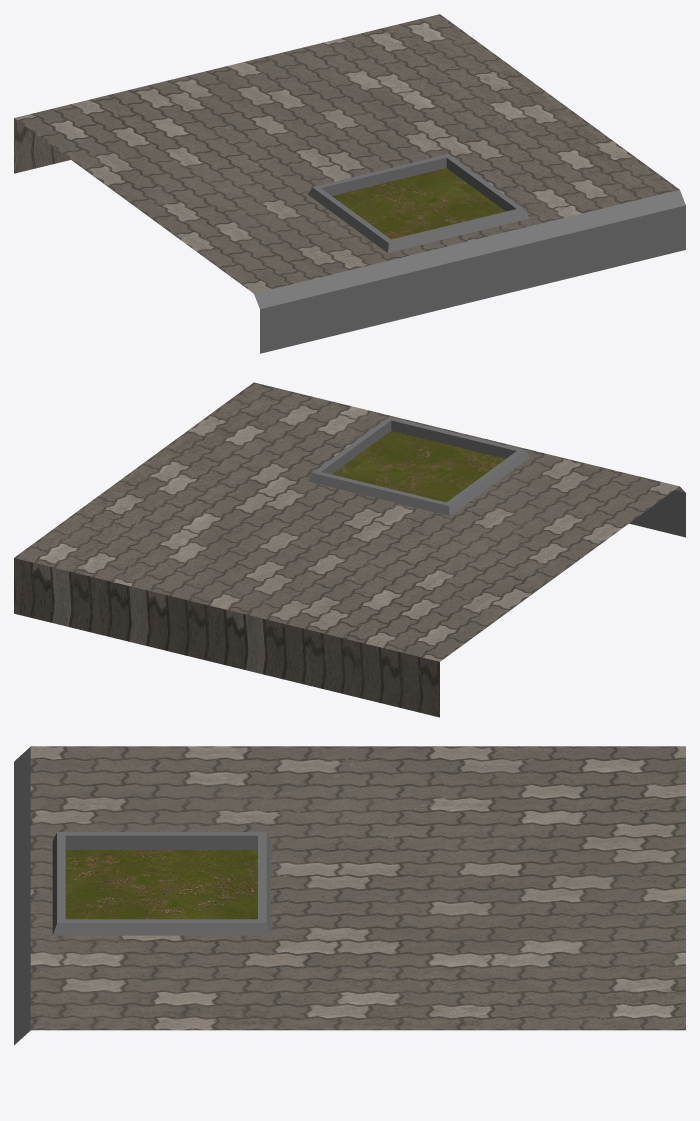
Rendered from Tree_sidewalk.fbx.
The picture shows the model from 3 angles, top to bottom: view 1: azimuth 30°, elevation 25°; view 2: azimuth 150°, elevation 25°; view 3: azimuth 270°, elevation 25°; orthographic projection. The views are drawn at different scales.
Visible parts, largest first — view 1: Acera árbol; view 2: Acera árbol; view 3: Acera árbol.
Boxes of the visible parts, x1,y1,x2,y2 form: Acera árbol: (14,14,685,353); Acera árbol: (14,382,685,717); Acera árbol: (14,746,685,1045).
Bounding box in the file's own units: 800 × 114 × 800.
